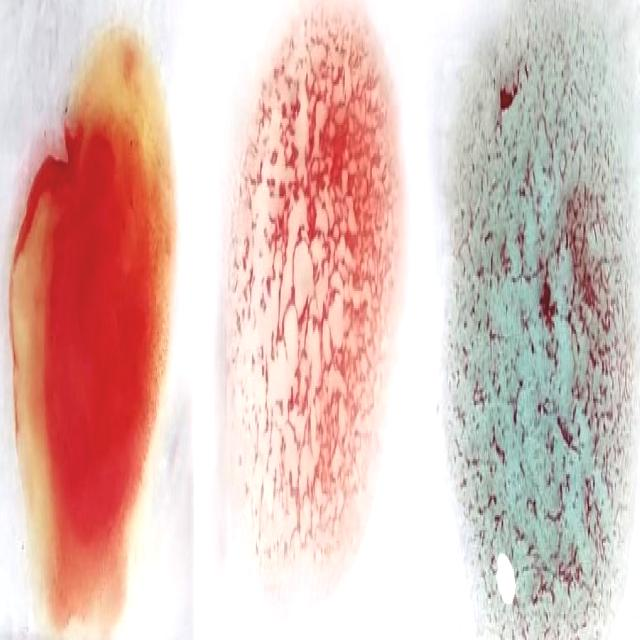A: (455, 5, 628, 640)
D: (224, 7, 390, 580)
